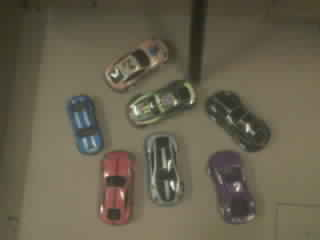Car: (205, 90, 270, 151), (208, 150, 255, 223), (127, 80, 196, 127), (105, 40, 167, 91), (144, 131, 183, 205), (99, 150, 134, 223), (67, 95, 102, 154)
